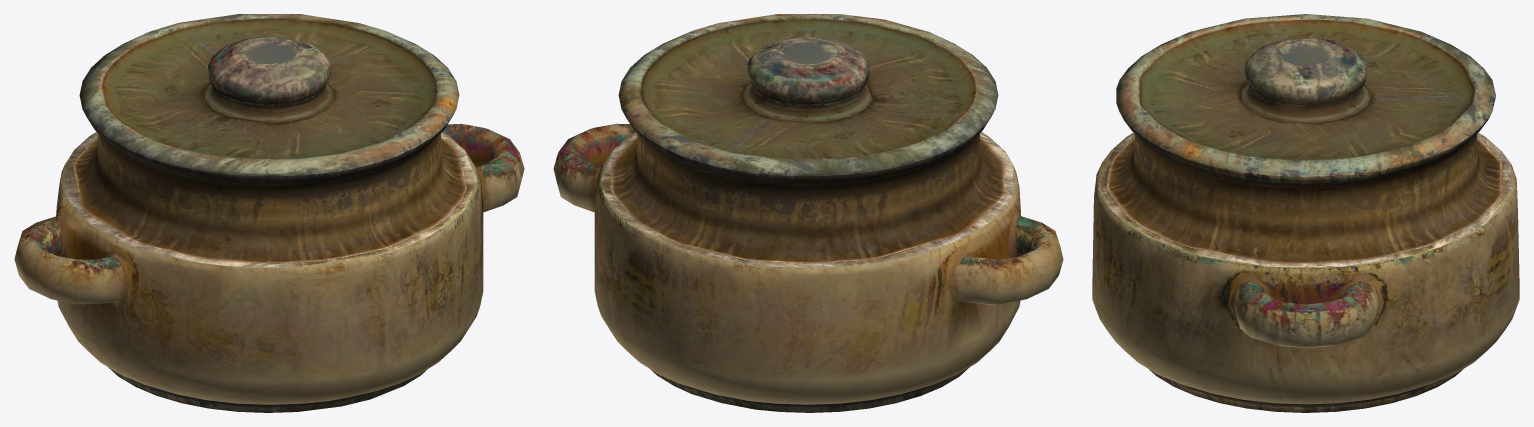
File: ceramic_pot.glb
3 renders of one model, left to right at view 1: azimuth 30°, elevation 25°; view 2: azimuth 150°, elevation 25°; view 3: azimuth 270°, elevation 25°, orthographic.
Parts seen in each view (by area): view 1: ceramic_pot; view 2: ceramic_pot; view 3: ceramic_pot.
Boxes of the visible parts, box(x1,y1,x2,y2) form: ceramic_pot: box(14, 14, 524, 412); ceramic_pot: box(553, 14, 1063, 412); ceramic_pot: box(1092, 14, 1519, 412).
Size of the model in its own units: 0.6563 by 0.3717 by 0.4989.
Materials: 1 (1 with a texture image).
